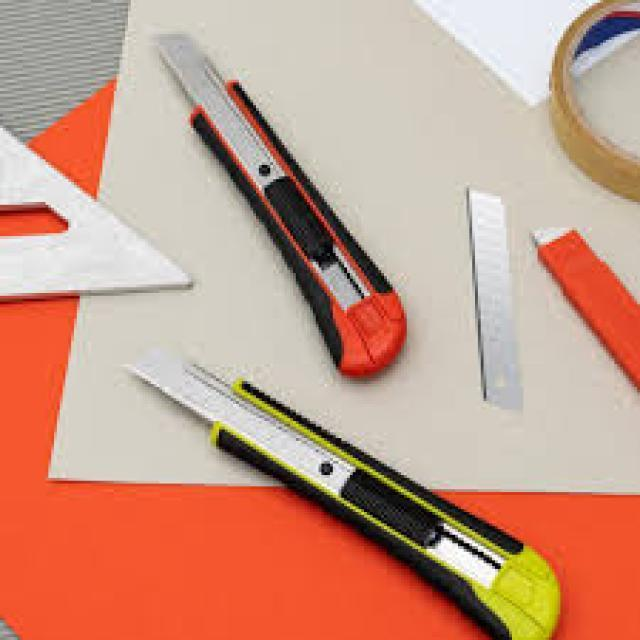cutter: (111, 341, 566, 640), (138, 17, 422, 399)
